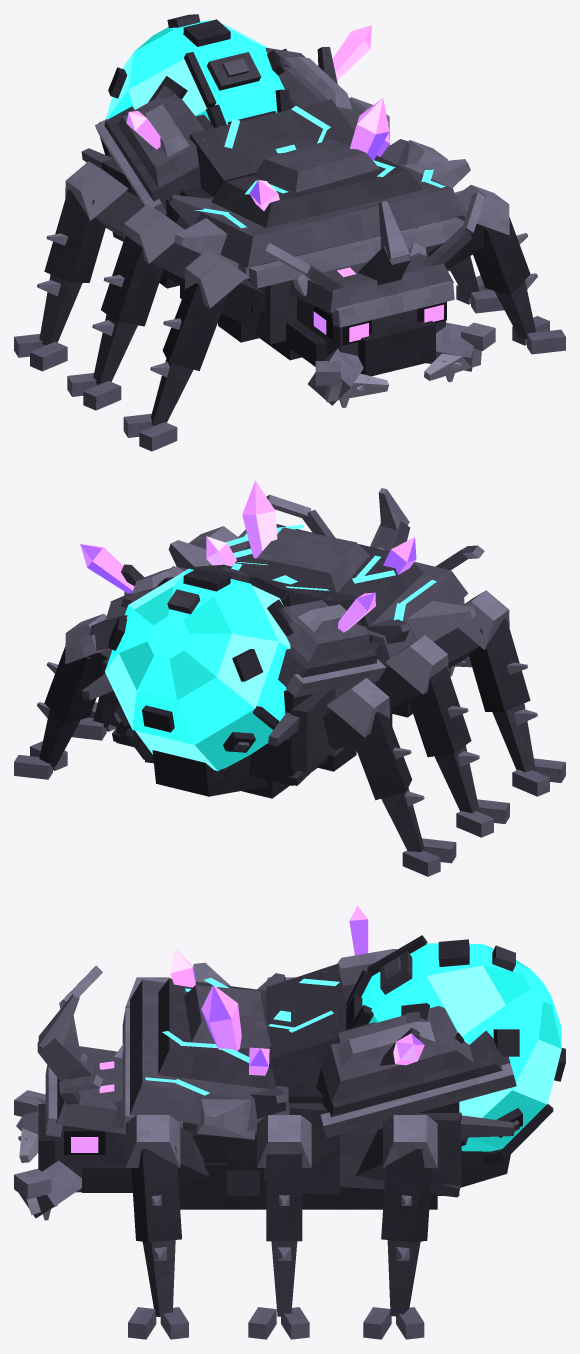
The model's file is fmob_shardling.glb.
3 renders of one model, top to bottom at view 1: azimuth 30°, elevation 25°; view 2: azimuth 150°, elevation 25°; view 3: azimuth 270°, elevation 25°, orthographic. The views are drawn at different scales.
Visible parts, largest first — view 1: fmob_shardling, head, weak_sac, leg_fr, leg_br, leg_mr, leg_fl, jaw, glow_shards, leg_ml, glow_cracks, glow_eyes; view 2: fmob_shardling, weak_sac, leg_mr, leg_br, leg_fr, leg_bl, glow_shards, head, glow_cracks, leg_ml, leg_fl; view 3: fmob_shardling, weak_sac, head, leg_fl, leg_bl, leg_ml, glow_shards, jaw, glow_cracks, glow_eyes.
Part boxes in pixels (left/top/right/bottom): fmob_shardling: left=81, top=47, right=470, bottom=360; head: left=264, top=192, right=484, bottom=376; weak_sac: left=99, top=14, right=290, bottom=157; leg_fr: left=123, top=249, right=265, bottom=451; leg_br: left=14, top=161, right=179, bottom=371; leg_mr: left=67, top=204, right=201, bottom=410; leg_fl: left=429, top=185, right=565, bottom=354; jaw: left=307, top=322, right=495, bottom=407; glow_shards: left=126, top=25, right=389, bottom=210; leg_ml: left=407, top=140, right=503, bottom=313; glow_cracks: left=194, top=106, right=445, bottom=228; glow_eyes: left=313, top=267, right=443, bottom=342; fmob_shardling: left=79, top=524, right=475, bottom=798; weak_sac: left=105, top=566, right=293, bottom=780; leg_mr: left=376, top=635, right=509, bottom=837; leg_br: left=318, top=678, right=456, bottom=876; leg_fr: left=392, top=590, right=565, bottom=796; leg_bl: left=14, top=613, right=112, bottom=779; glow_shards: left=80, top=480, right=416, bottom=632; head: left=266, top=488, right=484, bottom=570; glow_cracks: left=225, top=524, right=436, bottom=620; leg_ml: left=72, top=574, right=153, bottom=740; leg_fl: left=188, top=526, right=237, bottom=548; fmob_shardling: left=122, top=949, right=516, bottom=1209; weak_sac: left=346, top=935, right=565, bottom=1165; head: left=37, top=965, right=132, bottom=1192; leg_fl: left=125, top=1115, right=226, bottom=1339; leg_bl: left=336, top=1115, right=437, bottom=1339; leg_ml: left=248, top=1115, right=311, bottom=1339; glow_shards: left=170, top=905, right=424, bottom=1075; jaw: left=14, top=1090, right=81, bottom=1220; glow_cracks: left=145, top=977, right=339, bottom=1095; glow_eyes: left=71, top=1061, right=114, bottom=1152.
Bounding box in the file's own units: 0.9567 × 0.5667 × 1.01.
15 materials, 6 textured.
